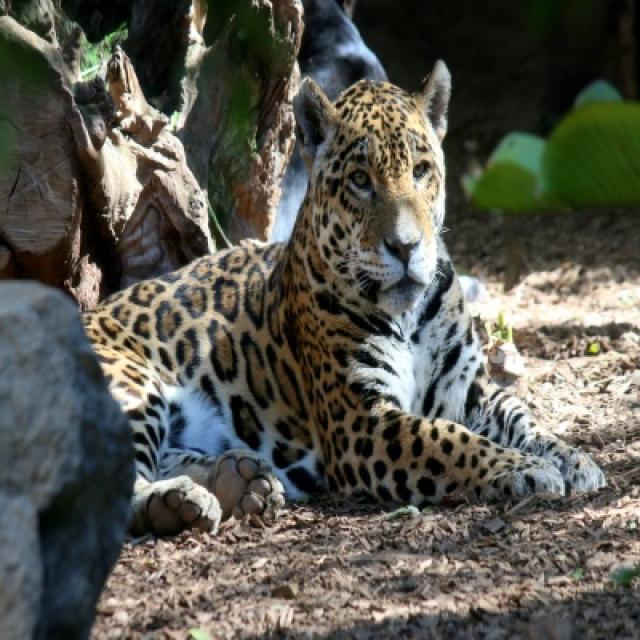Jaguar: (80, 61, 606, 522)
